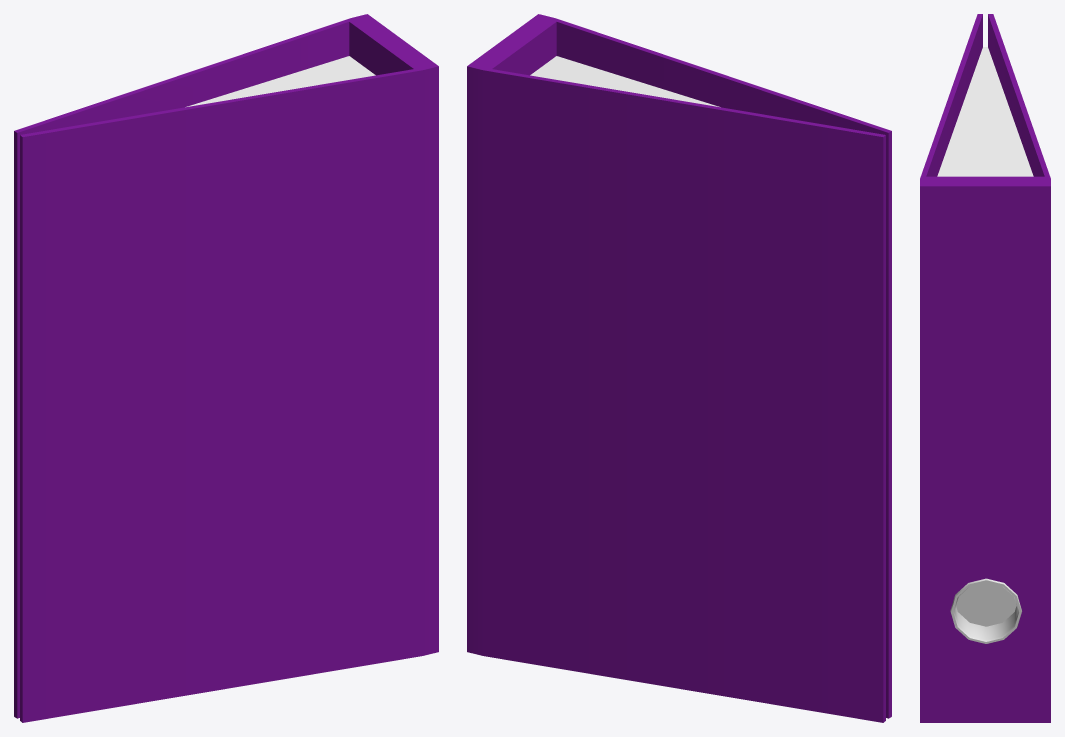
The model's file is Carpeta11.fbx.
3 views of the same model, side by side, from view 1: azimuth 30°, elevation 25°; view 2: azimuth 150°, elevation 25°; view 3: azimuth 270°, elevation 25° (orthographic). The views are drawn at different scales.
Parts seen in each view (by area): view 1: Carpeta11; view 2: Carpeta11; view 3: Carpeta11.
Boxes of the visible parts, box(x1,y1,x2,y2) form: Carpeta11: box(14, 14, 438, 722); Carpeta11: box(467, 14, 891, 722); Carpeta11: box(920, 14, 1050, 722).
Size of the model in its own units: 34.66 by 50.08 by 11.07.
